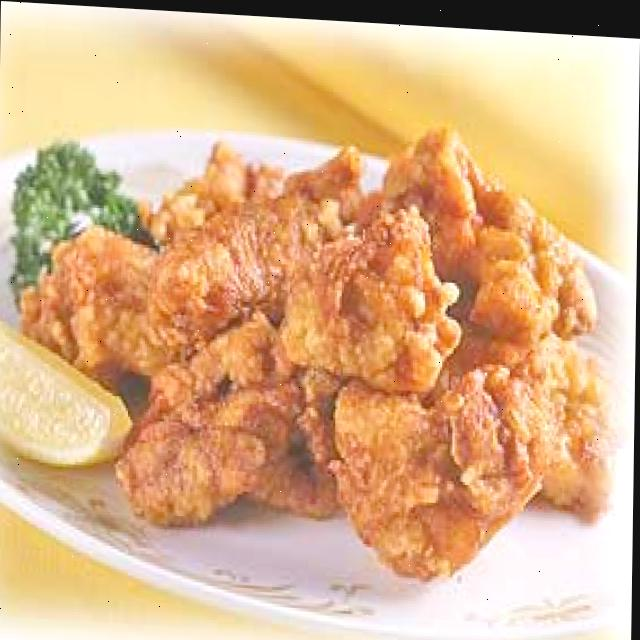鸡肉料理 含炸鸡: (0, 66, 639, 621)
